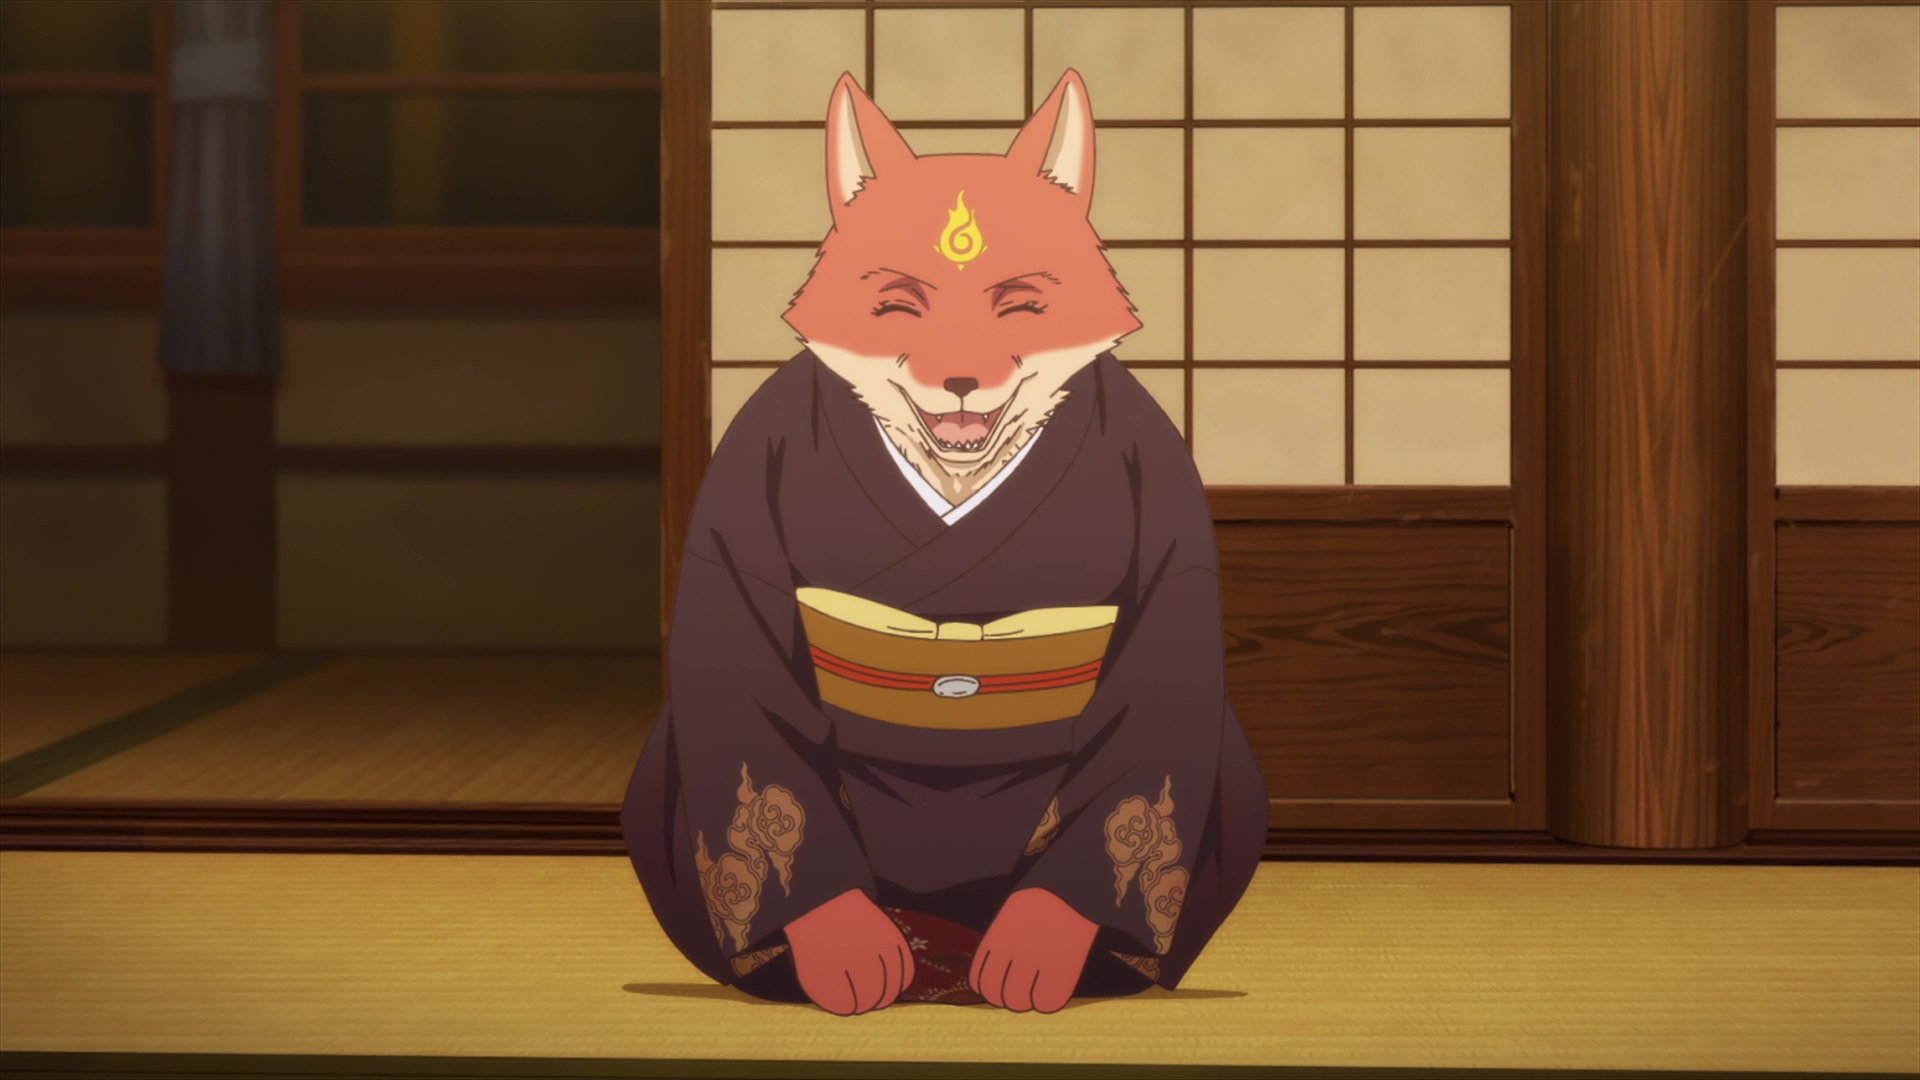椿: (618, 69, 1269, 1011)
